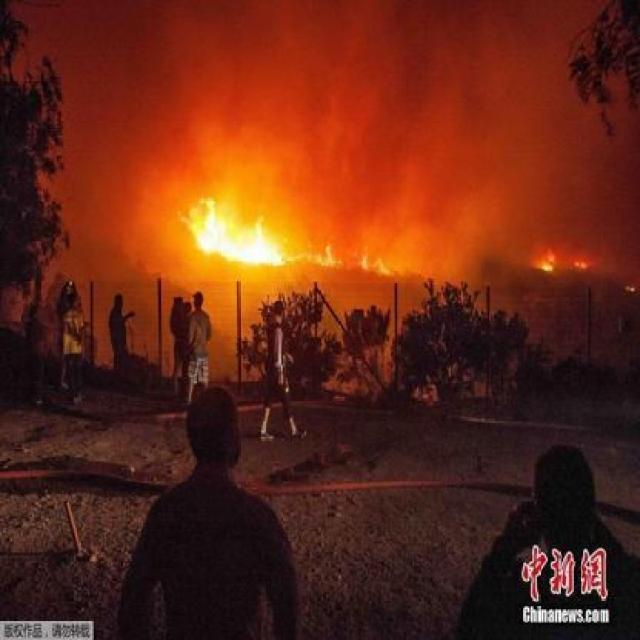Fire: (191, 193, 280, 264), (308, 242, 396, 272), (531, 244, 596, 280)
